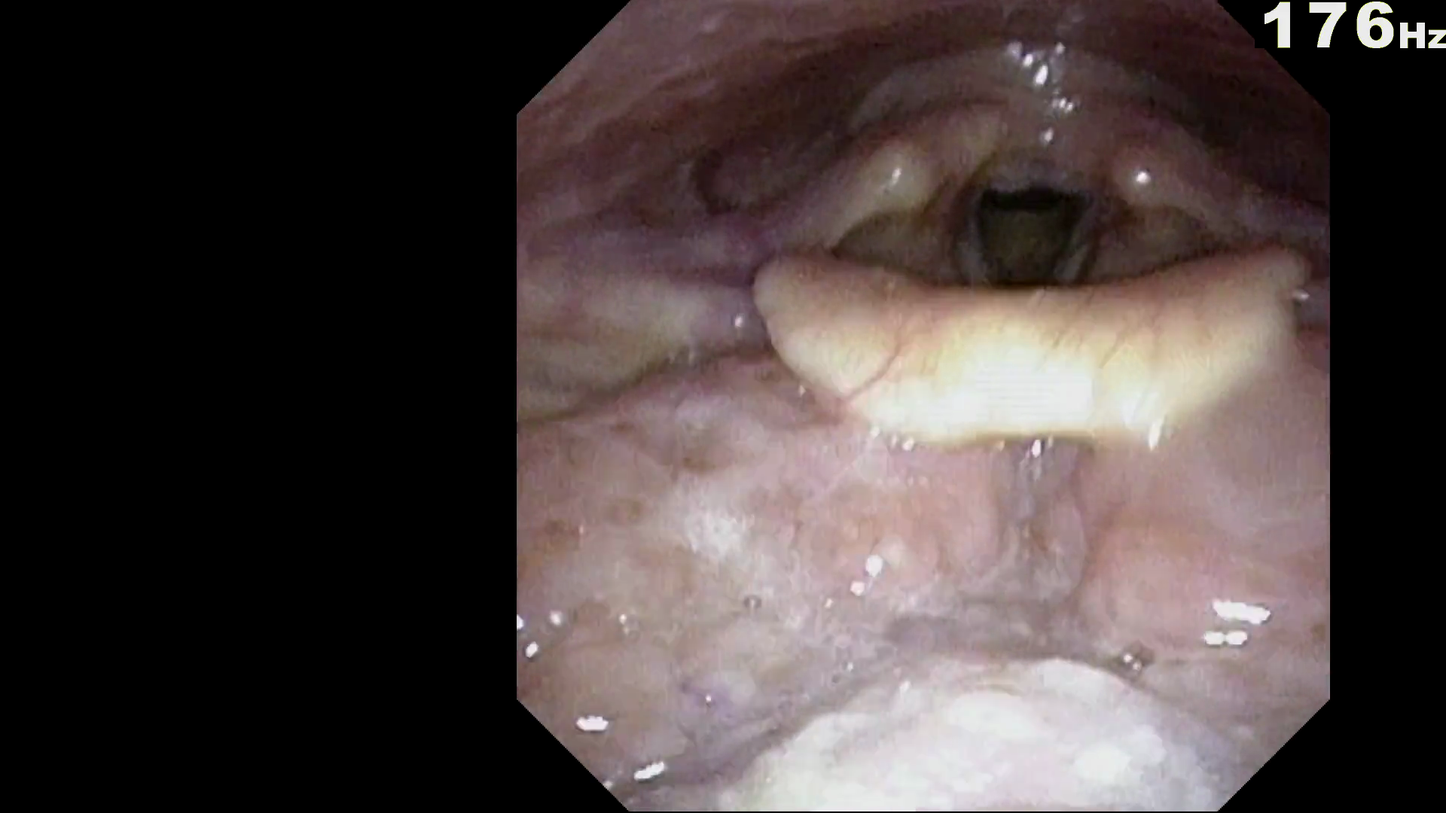epiglottis: (729, 199, 1313, 484)
trachea: (958, 174, 1104, 328)
